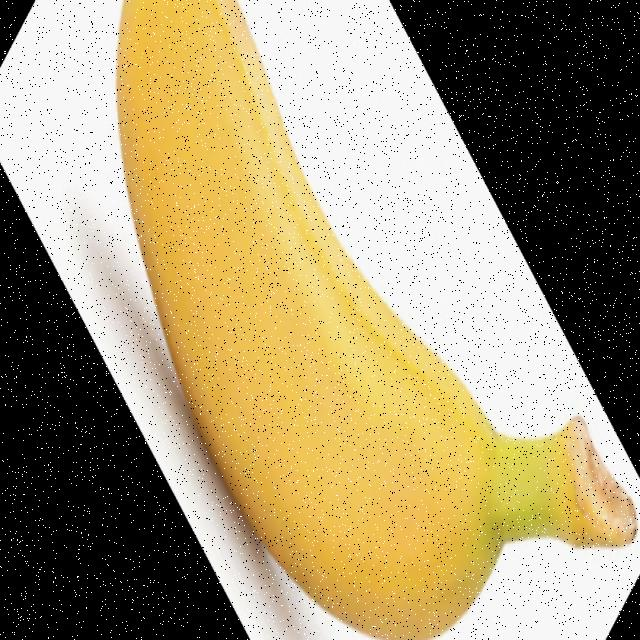god quality banana: (116, 0, 637, 636)
